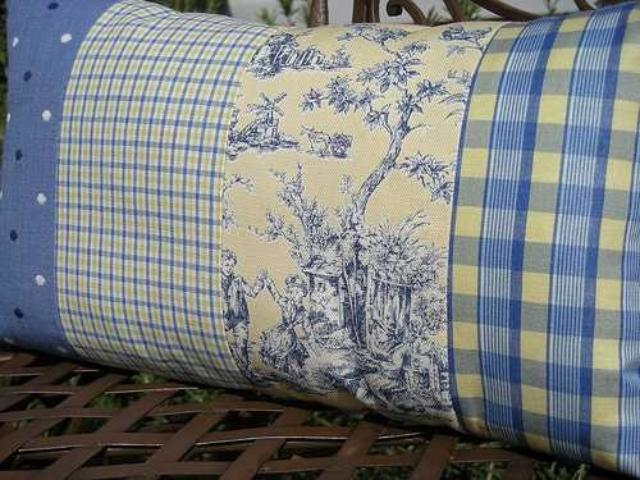pillow: (0, 0, 638, 478)
